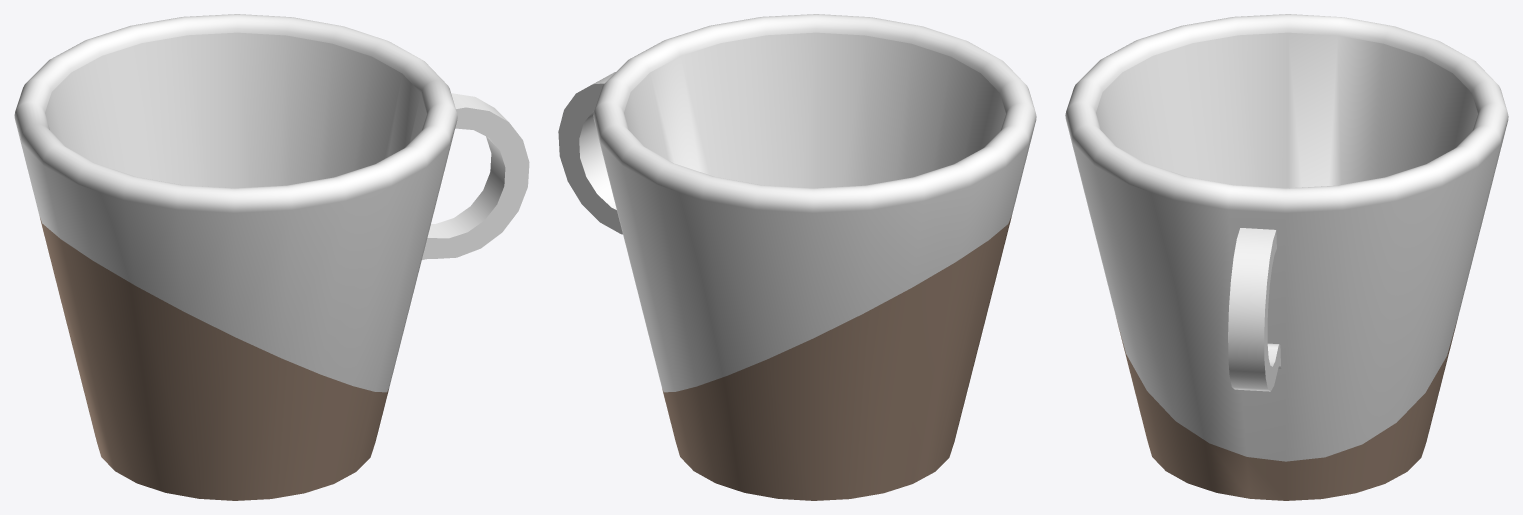
3 renders of one model, left to right at view 1: azimuth 30°, elevation 25°; view 2: azimuth 150°, elevation 25°; view 3: azimuth 270°, elevation 25°, orthographic.
Visible parts, largest first — view 1: mesh1-geometry-1, mesh1-geometry-2, mesh3-geometry-1; view 2: mesh1-geometry-1, mesh1-geometry-2, mesh3-geometry-0, mesh3-geometry-1; view 3: mesh1-geometry-1, mesh1-geometry-2, mesh3-geometry-1, mesh3-geometry-0.
Boxes of the visible parts, x1,y1,x2,y2 form: mesh1-geometry-1: (14,14,457,392); mesh1-geometry-2: (40,218,388,500); mesh3-geometry-1: (422,93,529,259); mesh1-geometry-1: (593,14,1036,392); mesh1-geometry-2: (662,216,1011,500); mesh3-geometry-0: (558,83,622,234); mesh3-geometry-1: (579,72,616,209); mesh1-geometry-1: (1065,14,1508,461); mesh1-geometry-2: (1116,318,1457,500); mesh3-geometry-1: (1228,228,1281,391); mesh3-geometry-0: (1264,230,1280,391).
Size of the model in its own units: 0.6751 by 0.4762 by 0.5634.
